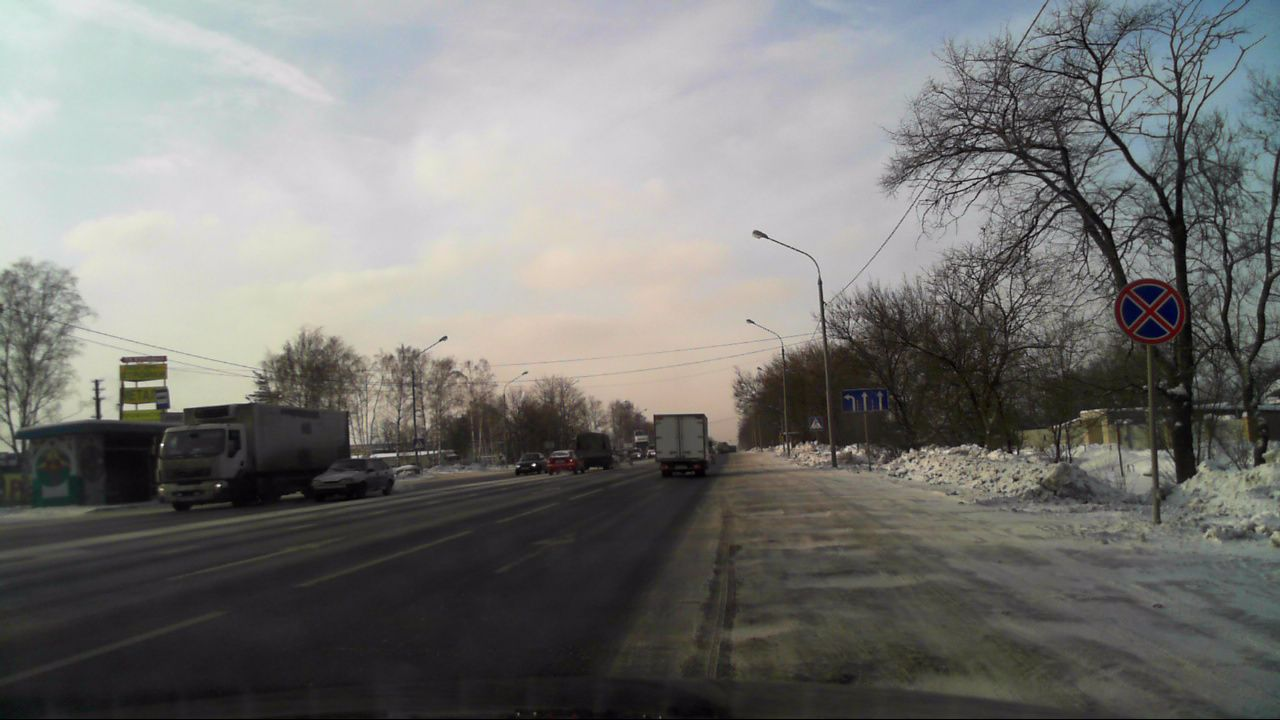No Parking: (1115, 279, 1185, 346)
